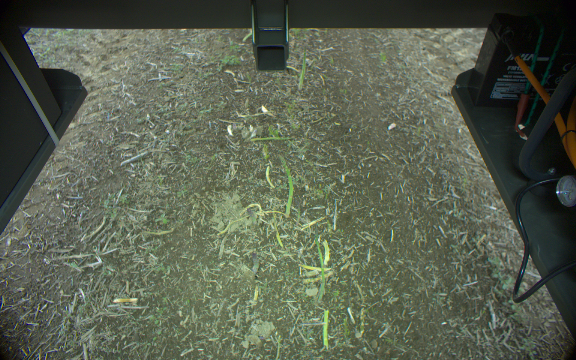aspa: (275, 150, 294, 219), (314, 228, 328, 301), (295, 48, 308, 91), (249, 132, 293, 141), (321, 308, 330, 350), (249, 251, 261, 277)
